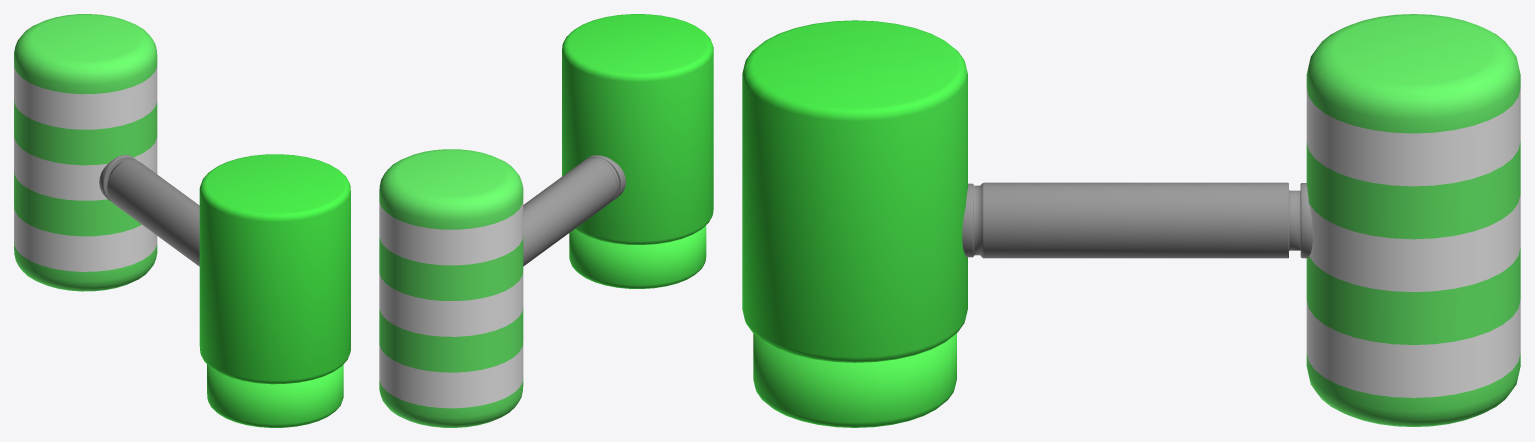
The model's file is trap_hammer_3.glb.
3 renders of one model, left to right at view 1: azimuth 30°, elevation 25°; view 2: azimuth 150°, elevation 25°; view 3: azimuth 270°, elevation 25°, orthographic. The views are drawn at different scales.
Visible parts, largest first — view 1: Cylinder.044_visual; view 2: Cylinder.044_visual; view 3: Cylinder.044_visual.
Boxes of the visible parts, x1,y1,x2,y2 form: Cylinder.044_visual: (14, 14, 350, 427); Cylinder.044_visual: (379, 14, 713, 427); Cylinder.044_visual: (742, 14, 1520, 427).
Size of what is drawn, in the model's own units: 1.36 by 2.26 by 4.68.
Materials: 1 (1 with a texture image).
